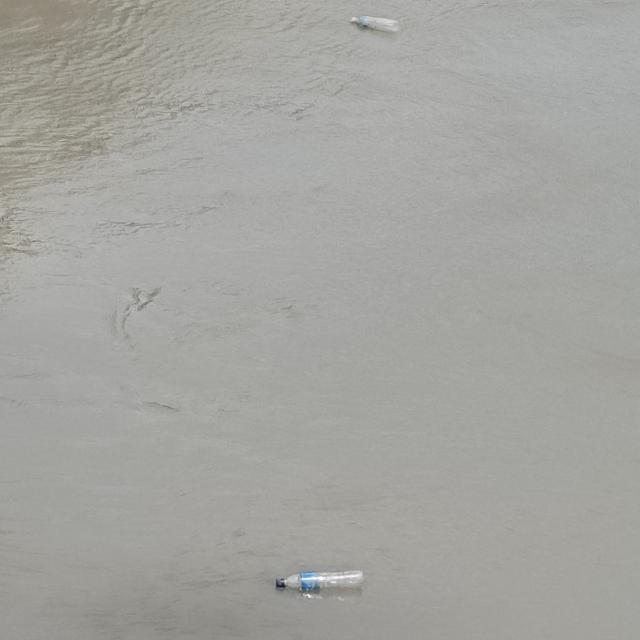Plastic: (252, 558, 380, 610), (318, 4, 424, 48)
